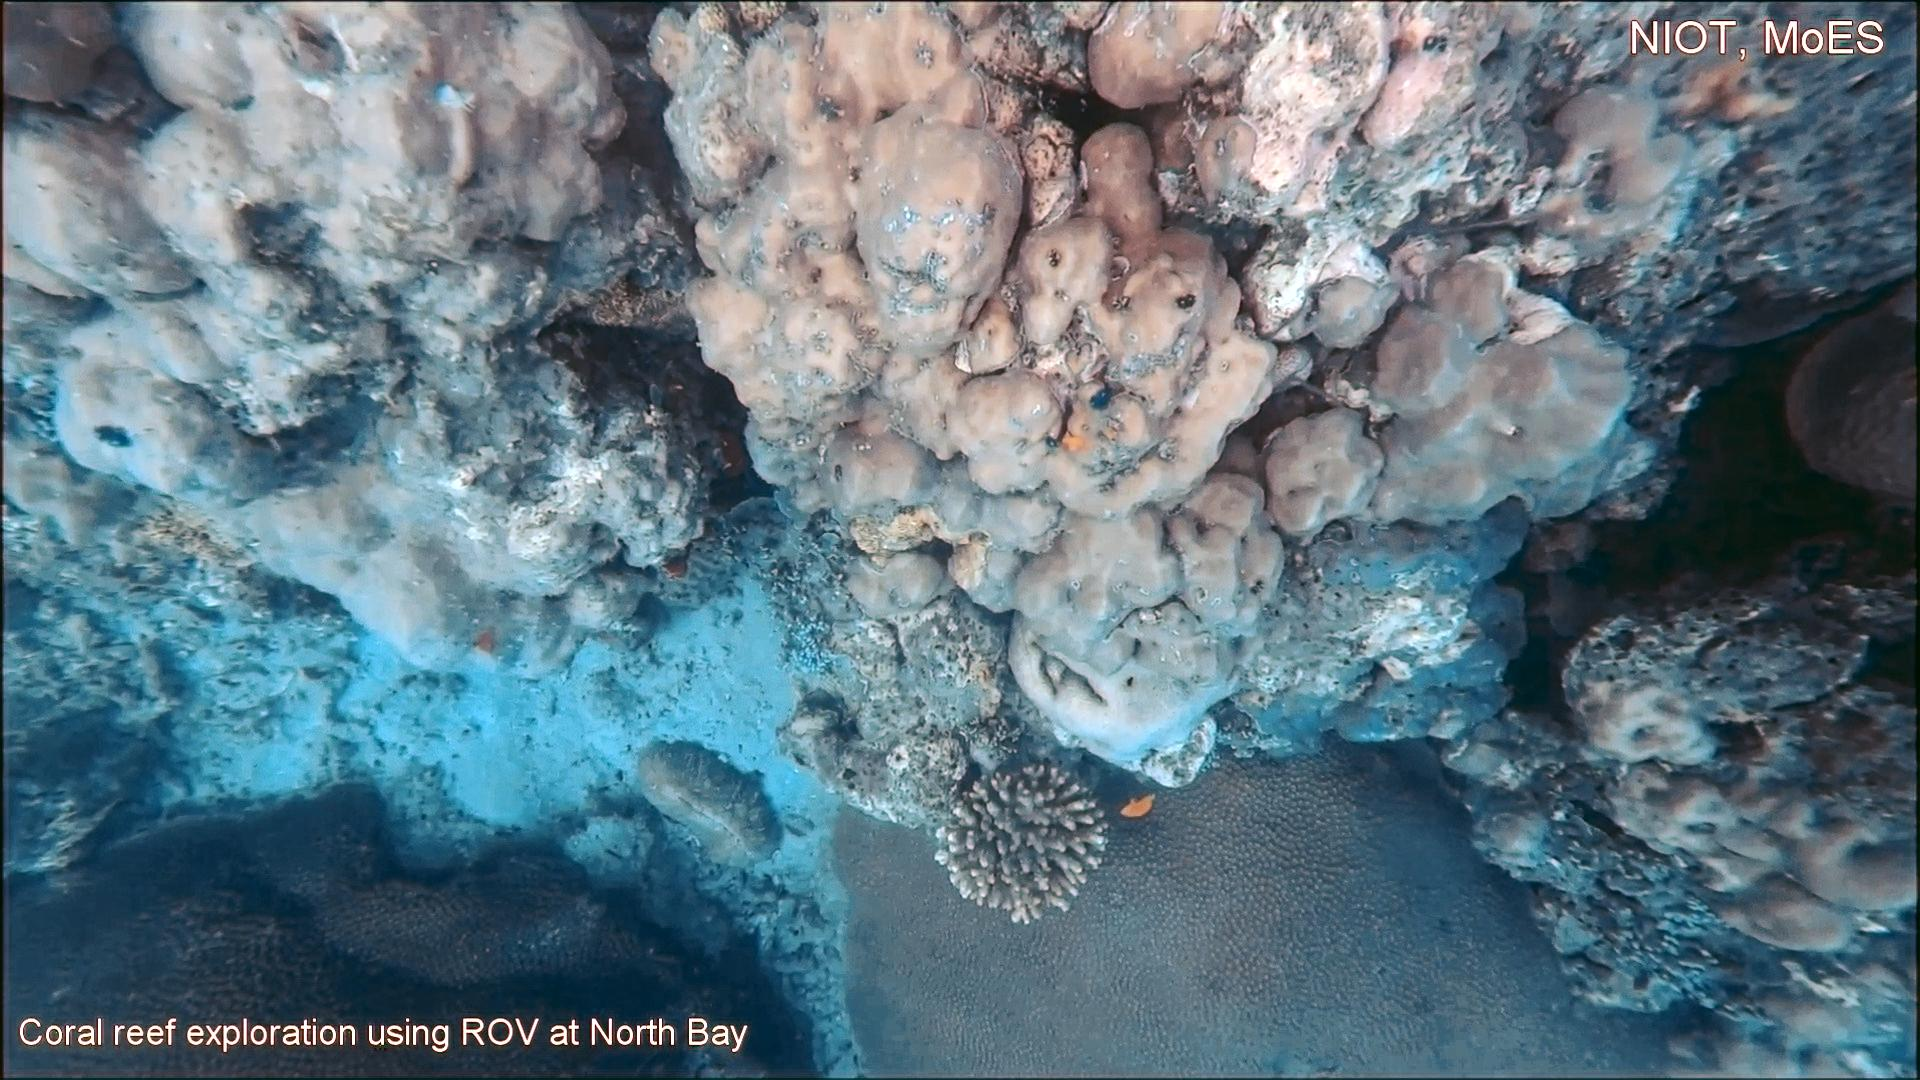Meandrina meandrites: (1780, 298, 1920, 512)
